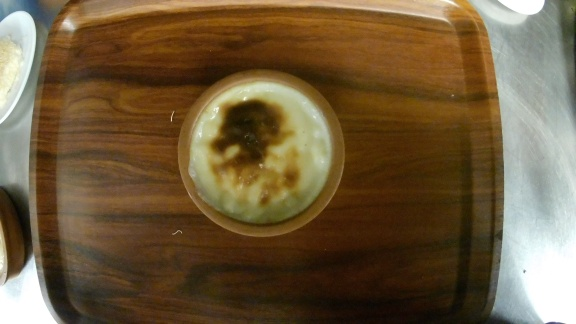sutlac: (178, 69, 346, 238)
